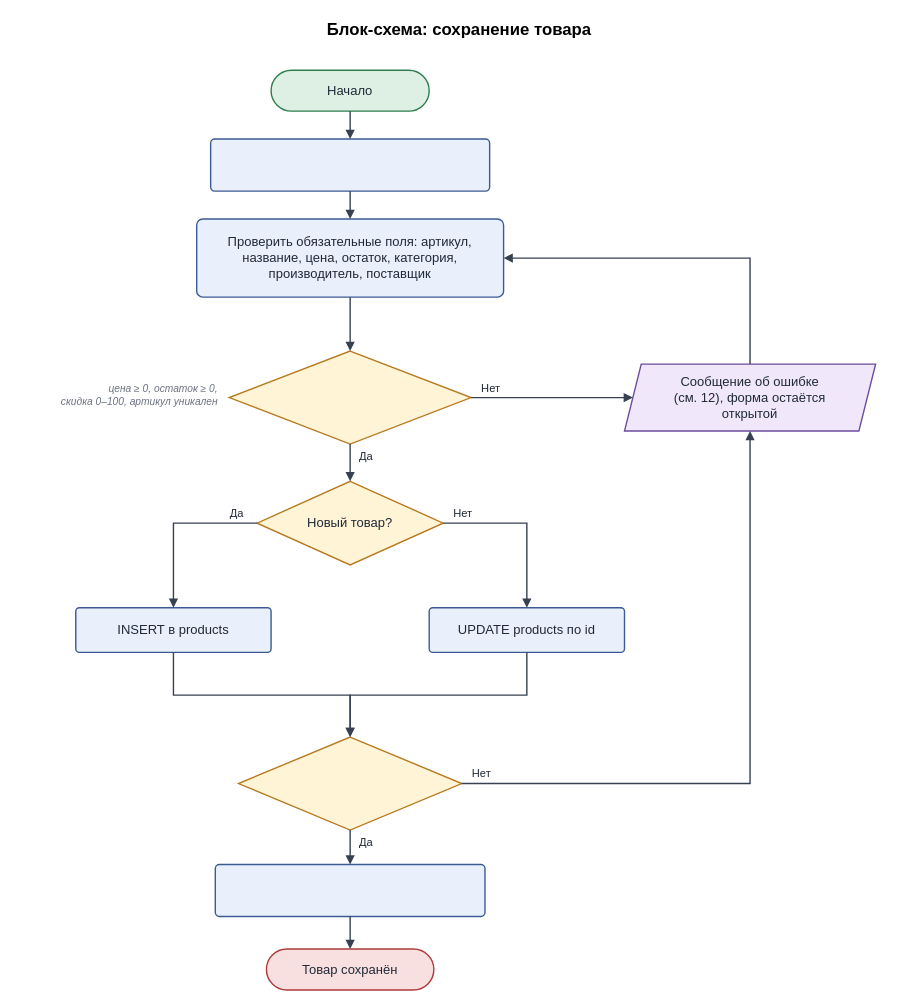
Image size: 917x1006. Some labels were removed from this diagram. The centre of each missing label's shape, as x and y in pixels:
"Данные корректны?" goes at (x=349, y=397).
"Закрыть форму и обновить каталог" goes at (x=349, y=890).
"Запись выполнена?" goes at (x=349, y=783).
"Нажата кнопка «Сохранить» в форме товара" goes at (x=350, y=164).
